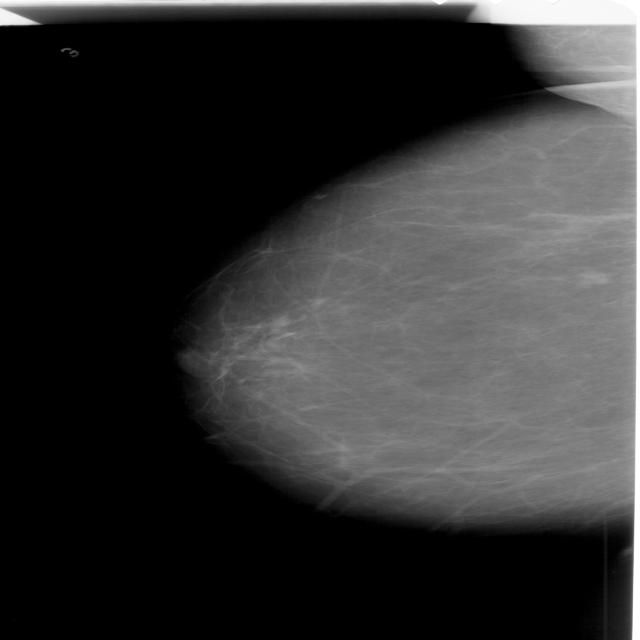normal: (188, 4, 640, 512)
